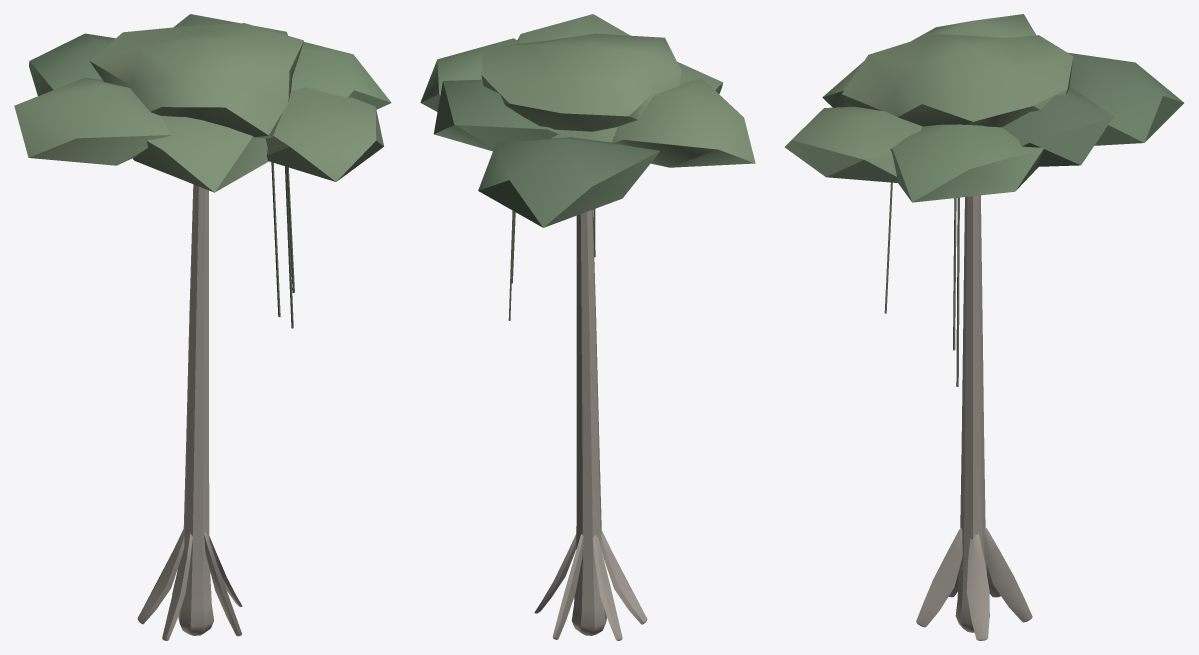
The model's file is jungle_giant.gltf.
The picture shows the model from 3 angles, left to right: view 1: azimuth 30°, elevation 25°; view 2: azimuth 150°, elevation 25°; view 3: azimuth 270°, elevation 25°; orthographic projection.
Parts seen in each view (by area): view 1: Body; view 2: Body; view 3: Body.
Boxes of the visible parts, x1=… form: Body: x1=14, y1=14, x2=391, y2=640; Body: x1=420, y1=14, x2=755, y2=640; Body: x1=784, y1=14, x2=1183, y2=640.
Bounding box in the file's own units: 11.02 × 18.73 × 11.61.
